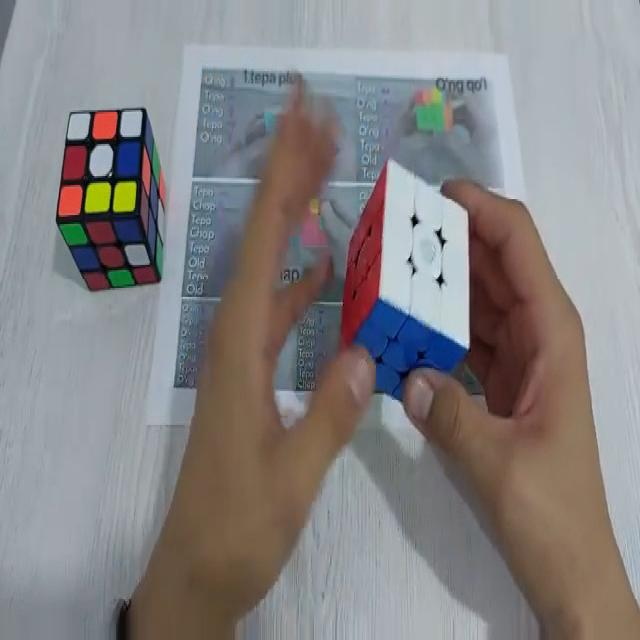Rub: (342, 157, 470, 402), (58, 108, 166, 291)
